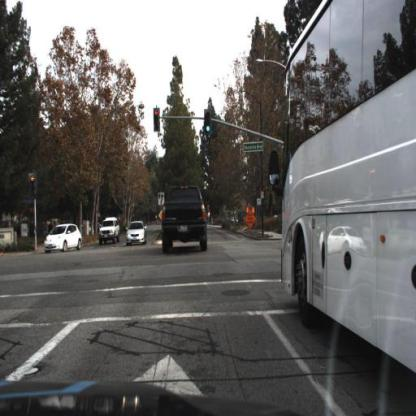car: (159, 182, 210, 257), (44, 222, 86, 257), (98, 215, 123, 249), (127, 220, 148, 248)
pedestrian: (49, 220, 54, 231)
trafficLight: (154, 106, 163, 135)
trafficLight-Green: (204, 109, 212, 137)
trafficLight-RedLeft: (29, 172, 39, 198)
truck: (268, 3, 416, 380)
